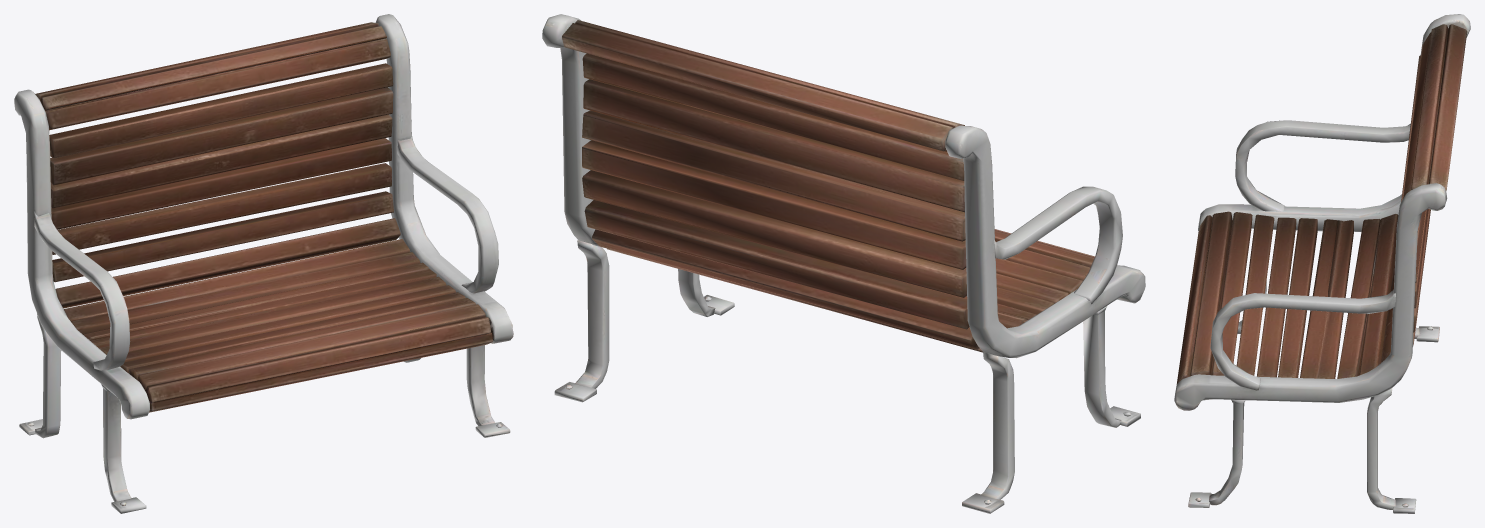
The model's file is plaza_bench.glb.
3 views of the same model, side by side, from view 1: azimuth 30°, elevation 25°; view 2: azimuth 150°, elevation 25°; view 3: azimuth 270°, elevation 25° (orthographic). The views are drawn at different scales.
Visible parts, largest first — view 1: TesanaFacingY180; view 2: TesanaFacingY180; view 3: TesanaFacingY180.
Boxes of the visible parts, bbox=[...] form: TesanaFacingY180: bbox=[14, 14, 513, 513]; TesanaFacingY180: bbox=[542, 14, 1145, 513]; TesanaFacingY180: bbox=[1174, 14, 1470, 513].
Bounding box in the file's own units: 1.12 × 0.8979 × 0.7486.
Materials: 1 (1 with a texture image).
